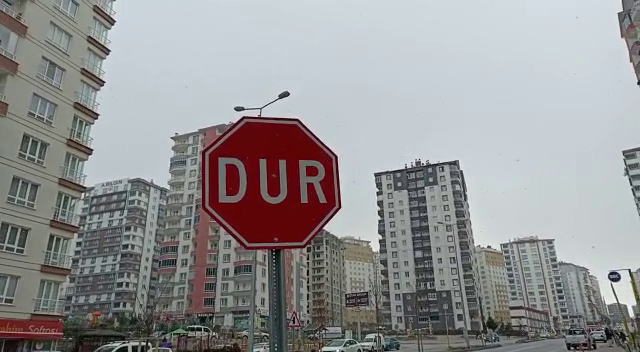stop: (198, 113, 345, 253)
